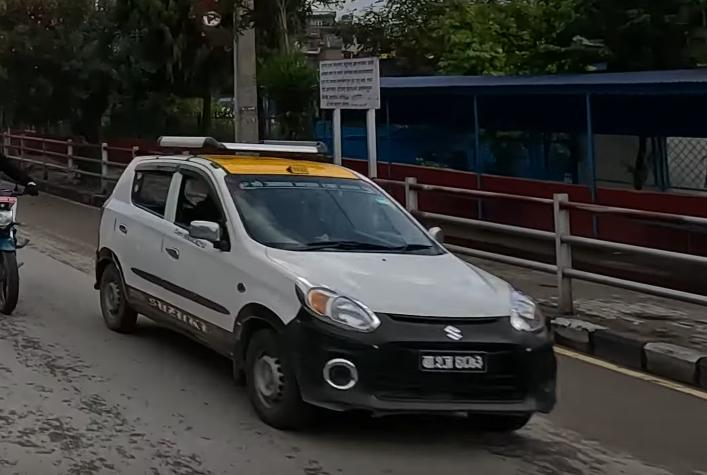bike: (0, 180, 38, 318)
taxi: (93, 127, 568, 445)
